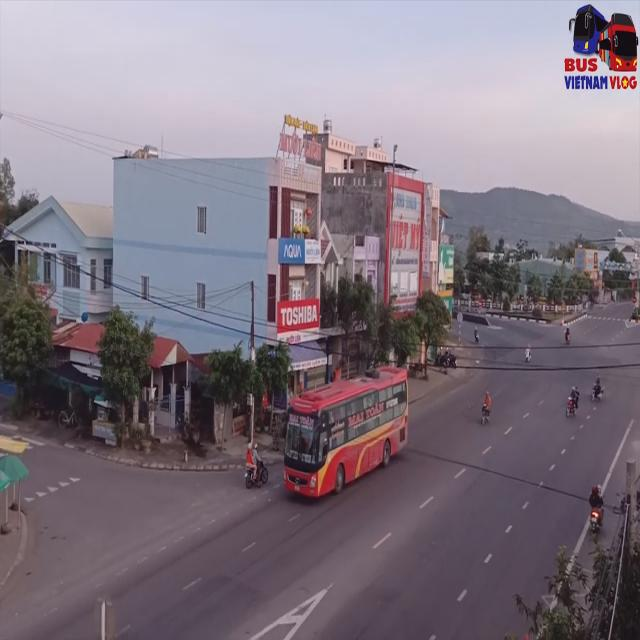bus: (284, 374, 413, 506), (0, 376, 32, 640)
motorbike: (246, 448, 269, 496), (588, 484, 605, 532), (481, 388, 493, 428), (566, 384, 578, 421), (592, 371, 604, 405)
